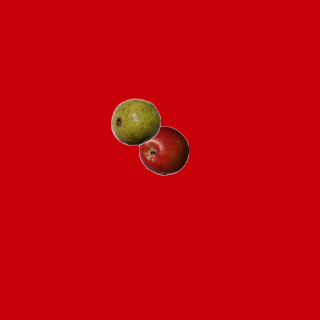Apple Braeburn: (138, 125, 188, 175)
Guava: (110, 96, 160, 146)
